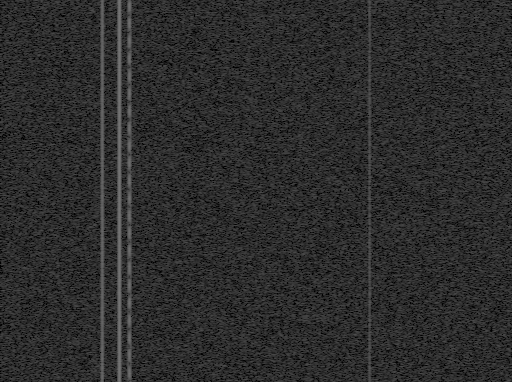wv_am: (100, 0, 105, 382)
wv_cw: (127, 0, 133, 382), (116, 0, 122, 382), (126, 0, 132, 382), (367, 0, 372, 382)
